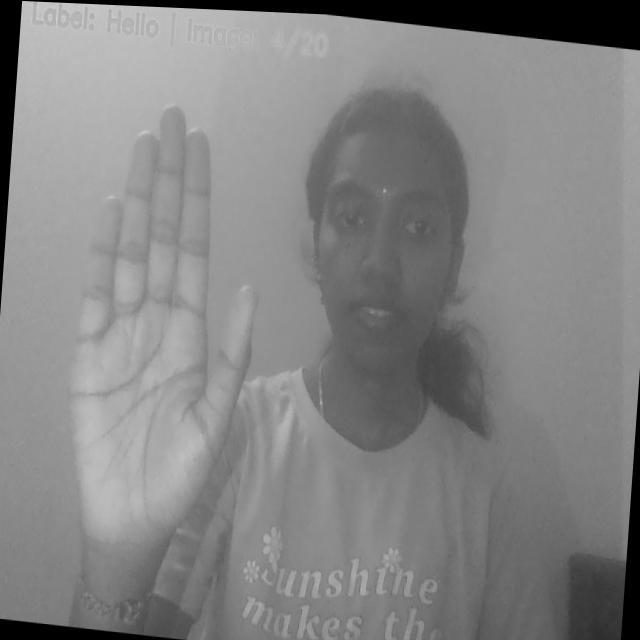Hello: (58, 87, 275, 557)
